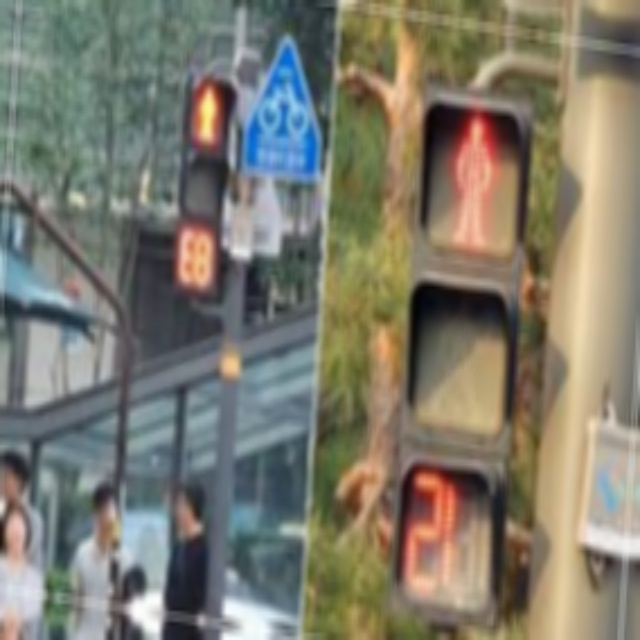red_light: (398, 474, 465, 611), (446, 112, 505, 251), (175, 225, 216, 292), (191, 82, 223, 148)
